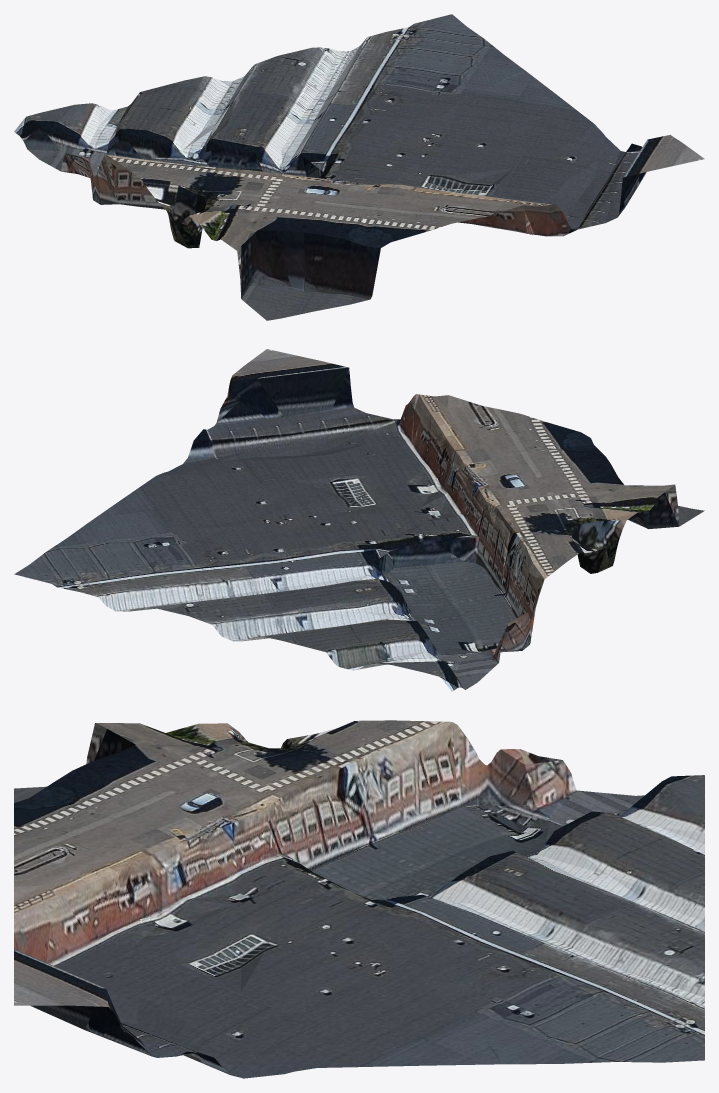
Rendered from map_15_8184_13784.dae.
The picture shows the model from 3 angles, top to bottom: view 1: azimuth 30°, elevation 25°; view 2: azimuth 150°, elevation 25°; view 3: azimuth 270°, elevation 25°; orthographic projection. The views are drawn at different scales.
Visible parts, largest first — view 1: Ter0; view 2: Ter0; view 3: Ter0.
Boxes of the visible parts, bbox=[...] form: Ter0: bbox=[14, 14, 704, 320]; Ter0: bbox=[14, 349, 704, 691]; Ter0: bbox=[14, 720, 704, 1078].
Size of the model in its own units: 63.88 by 63.88 by 9.92.
Materials: 2 (2 with a texture image).
